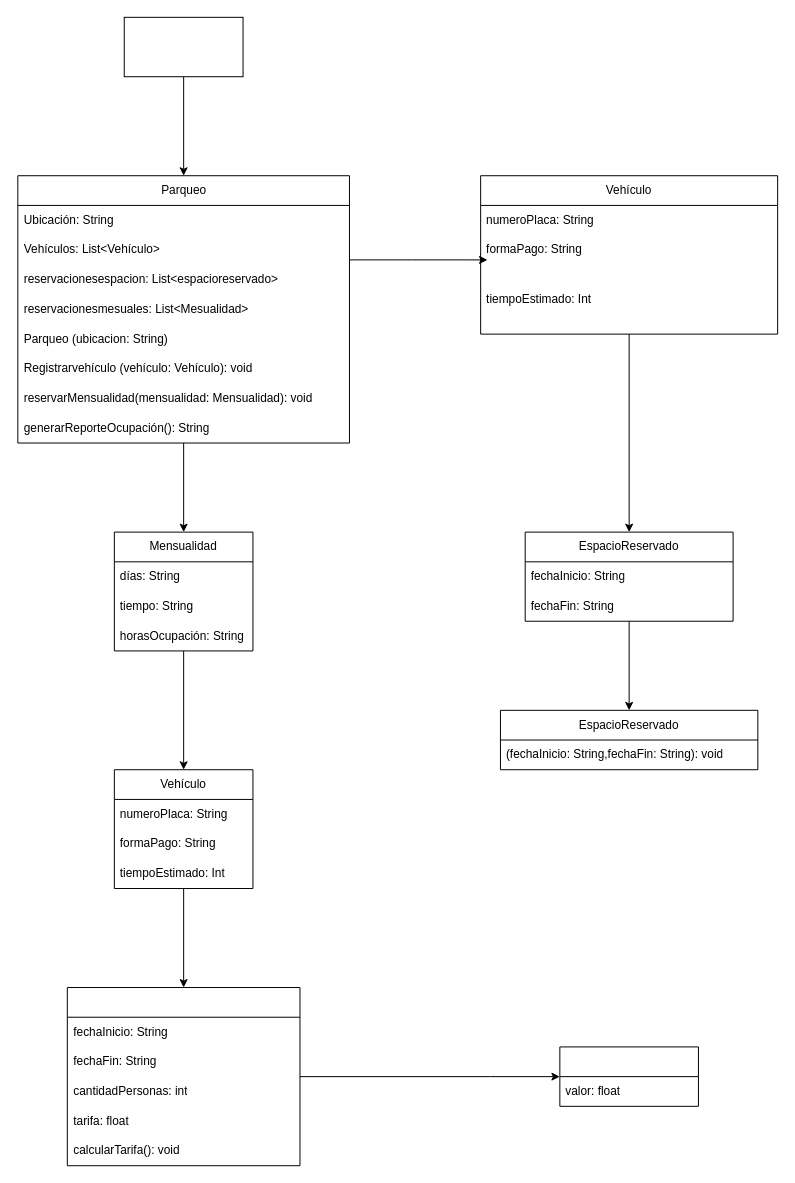
The diagram is 795 pixels wide and 1183 high, and some of its shapes have lost their labels. Each missing label, with the box of its shape:
Diagrama UML del Grupo 19: (123, 16, 243, 77)
EspacioReservado_PT: (66, 987, 300, 1166)
Tarifa: (559, 1046, 698, 1106)
